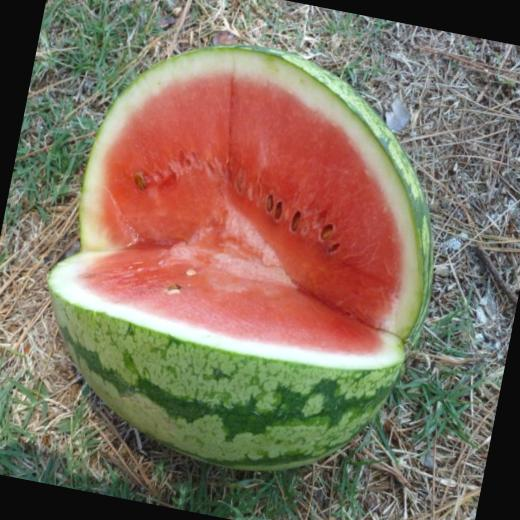Cherry: (17, 14, 484, 502)
